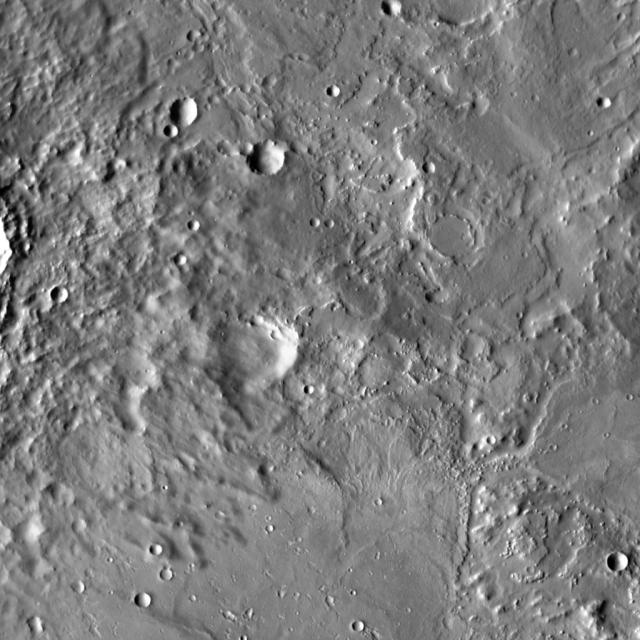crater: (224, 312, 302, 385), (437, 0, 497, 29), (251, 139, 289, 174), (173, 96, 204, 125), (612, 552, 632, 570), (54, 286, 73, 303), (386, 0, 406, 16), (70, 520, 86, 536), (136, 593, 151, 607), (602, 94, 617, 108), (167, 122, 182, 136), (243, 141, 258, 155), (332, 83, 346, 96), (427, 161, 441, 173), (150, 545, 163, 557), (193, 29, 206, 41), (354, 620, 366, 632), (268, 74, 280, 86), (74, 581, 86, 593), (192, 219, 205, 230), (180, 253, 192, 264), (160, 570, 172, 580), (311, 218, 321, 228), (172, 56, 182, 66), (327, 218, 337, 228), (220, 510, 230, 520), (358, 338, 368, 348), (305, 386, 315, 395), (294, 50, 304, 59), (245, 82, 255, 91), (198, 42, 208, 51), (188, 50, 198, 59), (572, 47, 582, 56), (327, 595, 336, 604), (303, 52, 313, 60), (487, 436, 497, 444), (308, 508, 317, 516), (318, 440, 327, 448), (374, 498, 382, 506), (532, 564, 540, 572), (228, 609, 236, 617), (186, 586, 194, 593), (249, 504, 256, 512), (161, 555, 168, 562), (282, 590, 290, 596), (266, 526, 274, 532), (530, 86, 536, 92), (238, 628, 246, 632), (550, 447, 556, 452)
